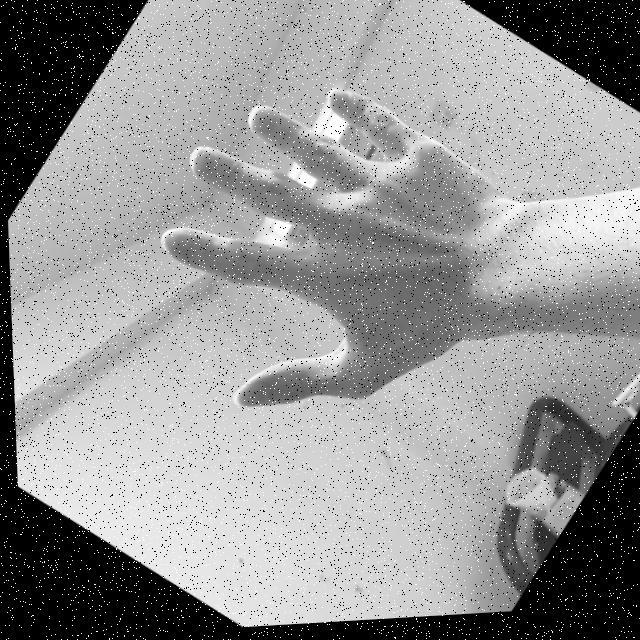no-gloves: (76, 21, 536, 494)
